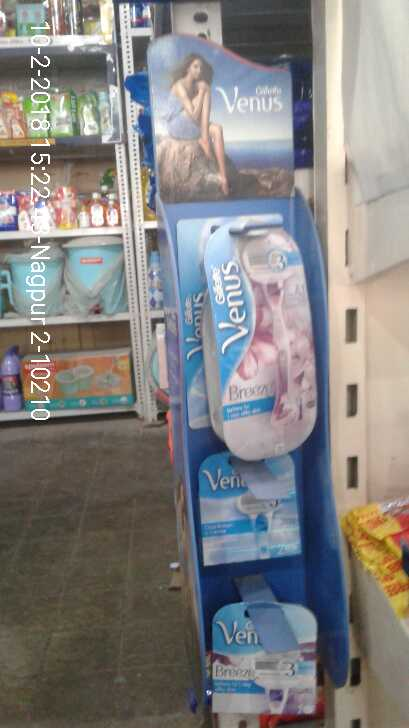venus: (196, 226, 320, 454), (207, 604, 319, 716), (198, 457, 306, 566)
